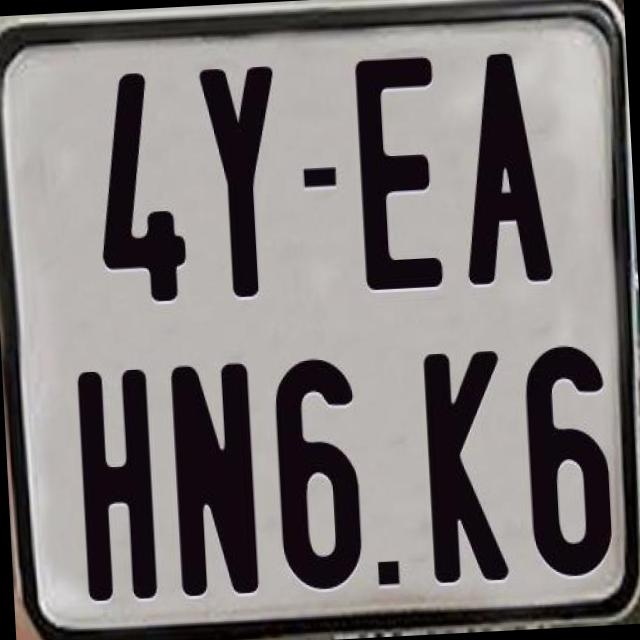4: (89, 68, 184, 301)
6: (522, 343, 621, 584), (268, 355, 364, 596)
A: (454, 50, 554, 284)
E: (350, 52, 442, 290)
H: (74, 366, 158, 608)
K: (422, 346, 512, 583)
N: (168, 361, 261, 604)
Y: (199, 64, 286, 307)
